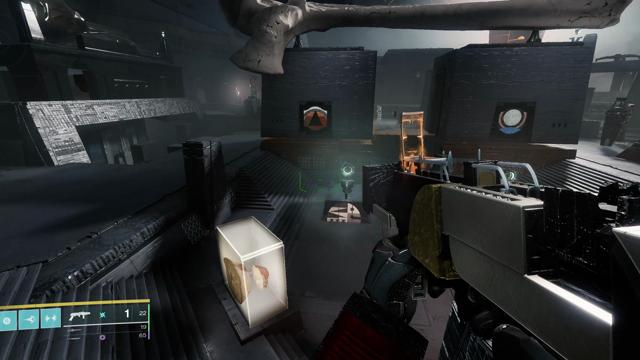pyramid: (303, 106, 327, 131)
traveler: (497, 107, 528, 135)
